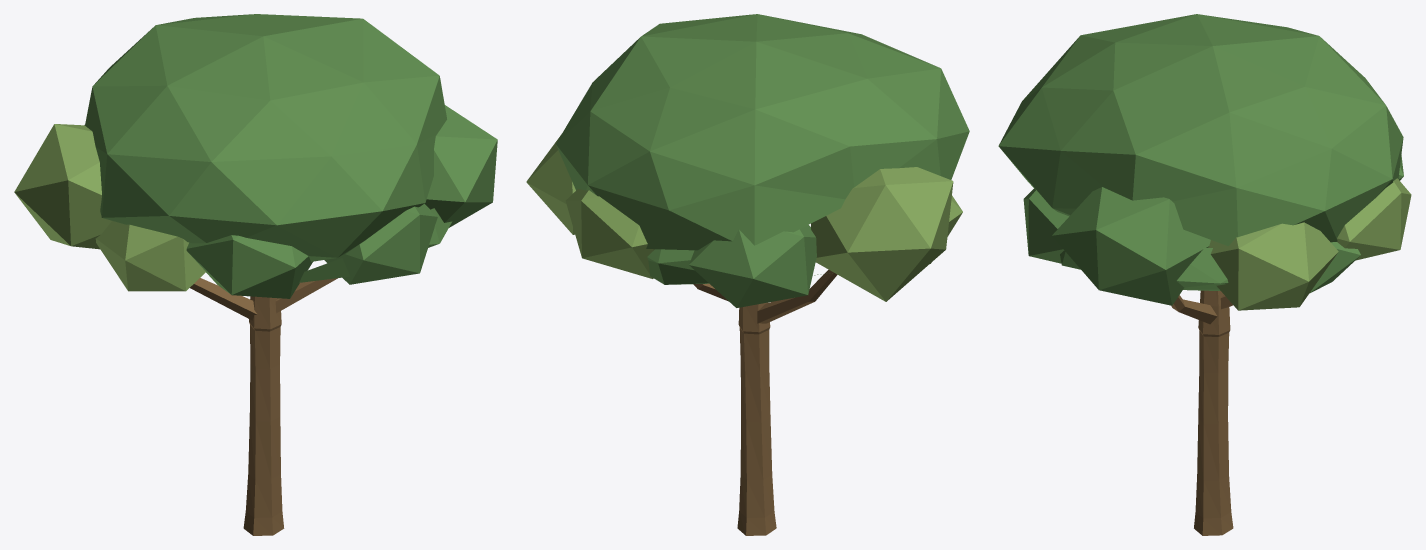
The model's file is tree_2_small.glb.
3 views of the same model, side by side, from view 1: azimuth 30°, elevation 25°; view 2: azimuth 150°, elevation 25°; view 3: azimuth 270°, elevation 25° (orthographic). The views are drawn at different scales.
Parts seen in each view (by area): view 1: crown-mesh, trunk-mesh; view 2: crown-mesh, trunk-mesh; view 3: crown-mesh, trunk-mesh.
Part boxes in pixels (x1,y1,x2,y2): crown-mesh: [14, 14, 497, 331]; trunk-mesh: [243, 325, 284, 535]; crown-mesh: [526, 14, 969, 334]; trunk-mesh: [737, 327, 776, 535]; crown-mesh: [998, 14, 1411, 336]; trunk-mesh: [1194, 331, 1233, 535].
Bounding box in the file's own units: 7.34 × 8.54 × 6.63.
